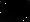person: (6, 3, 13, 14)
